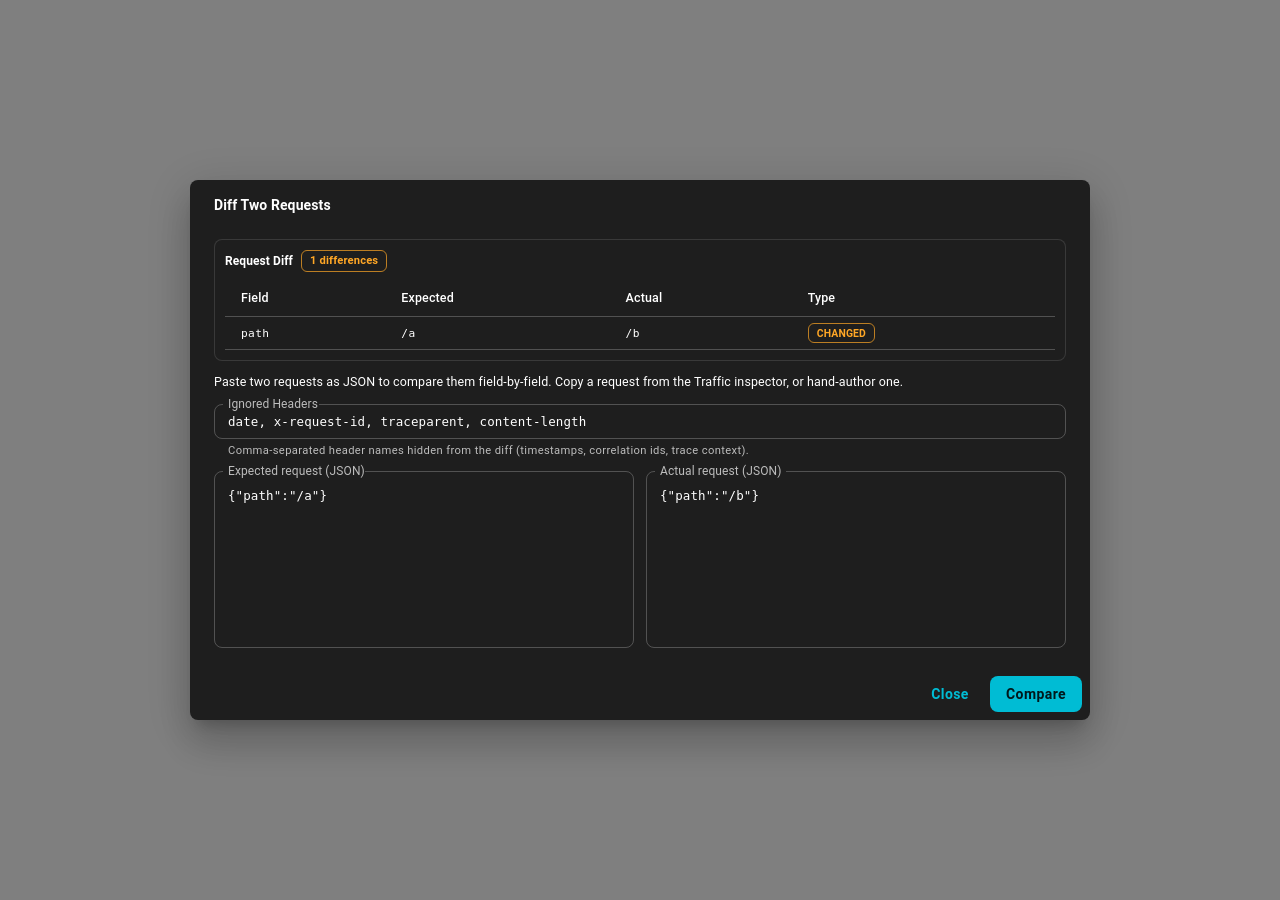
DiffRequestsDialog › re-filters live when the ignored-headers input changes, without re-querying
Expected: the text "path" is shown, top-left (241, 327), bottom-right (269, 340)
Expected: the text "headers.Date" is not shown
Note: Clearing the ignore list reveals the Date row again — no extra fetch.
Clear the field labelled "Ignored Headers": (640, 422) top-left (214, 404), bottom-right (1066, 439)
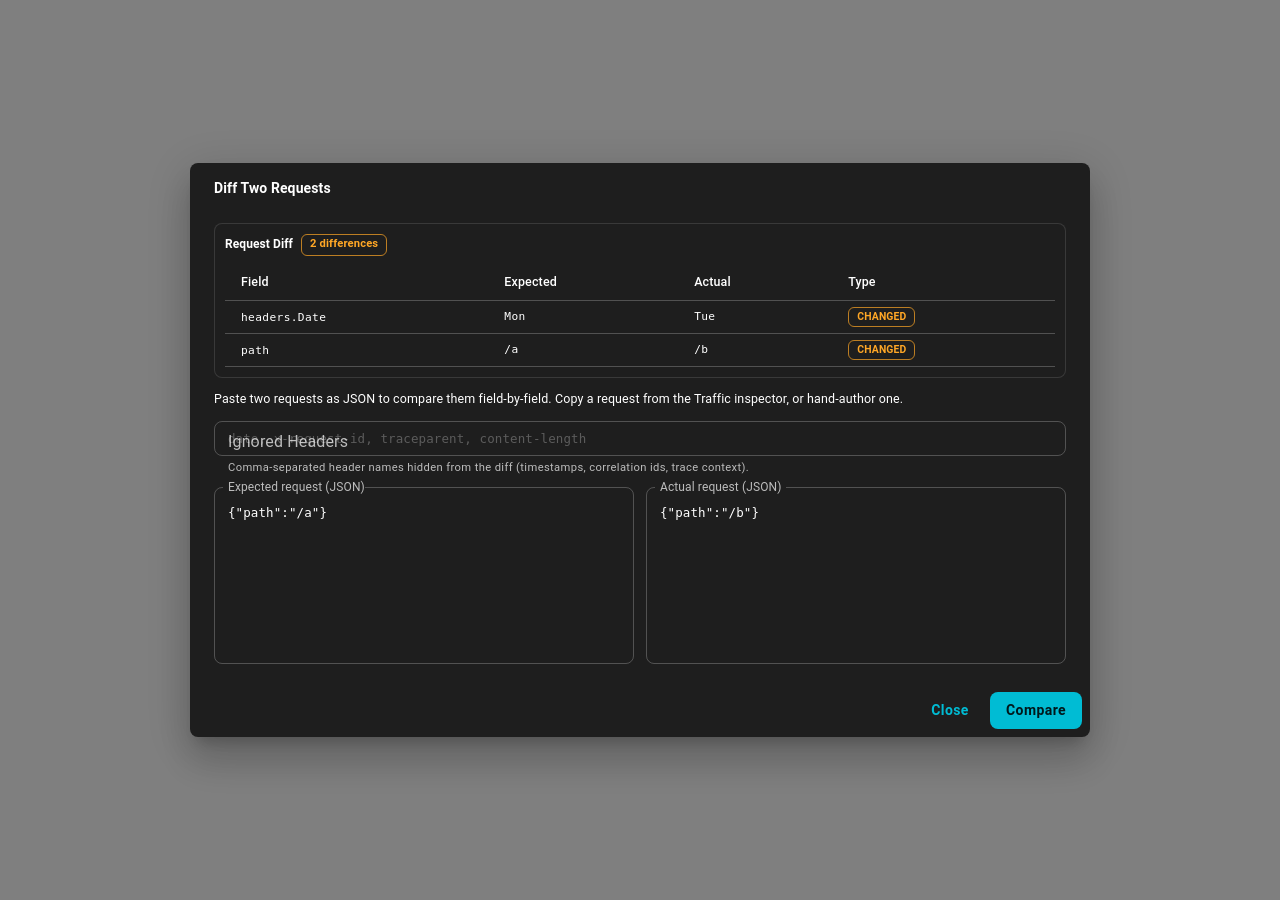
Result: the text "headers.Date" is shown at top-left (241, 310), bottom-right (326, 324)
Result: the text "2 differences" is shown at top-left (310, 238), bottom-right (378, 250)
